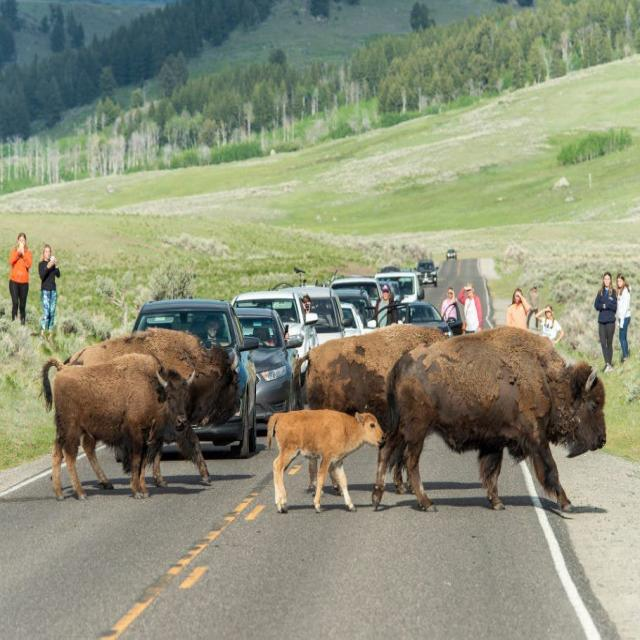Bison: (373, 320, 615, 512), (34, 348, 204, 503)
